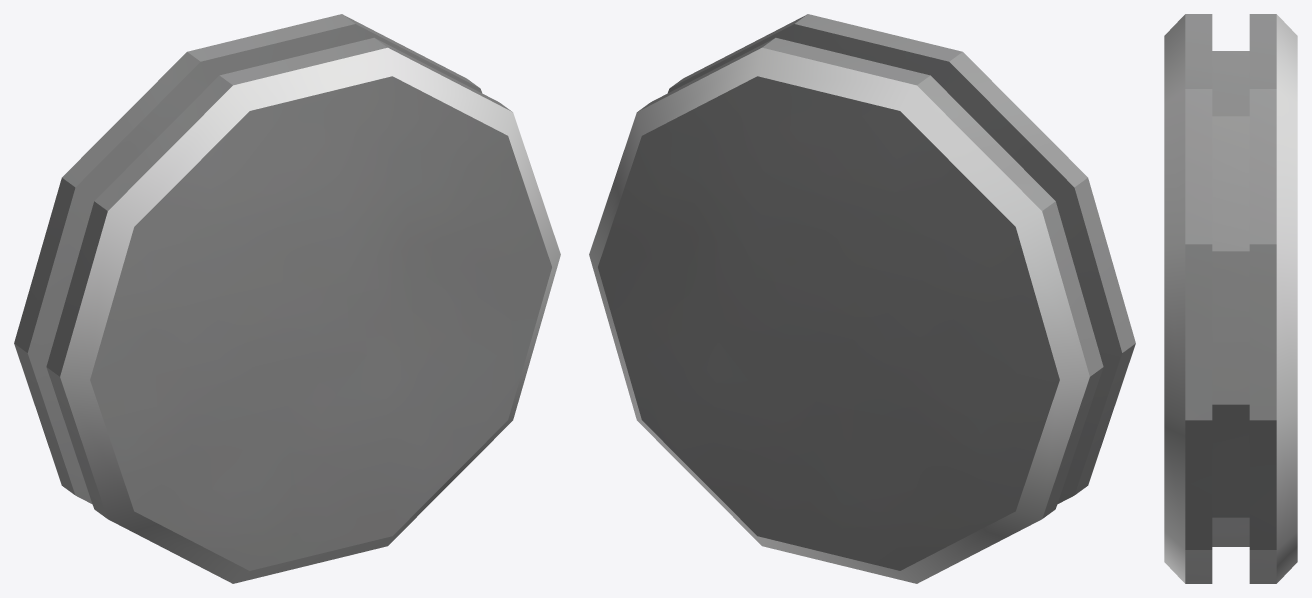
Rendered from big_wheel.fbx.
The picture shows the model from 3 angles, left to right: view 1: azimuth 30°, elevation 25°; view 2: azimuth 150°, elevation 25°; view 3: azimuth 270°, elevation 25°; orthographic projection.
Parts seen in each view (by area): view 1: big_wheel; view 2: big_wheel; view 3: big_wheel.
Part boxes in pixels (x1=…): big_wheel: x1=14, y1=14, x2=560, y2=583; big_wheel: x1=589, y1=14, x2=1135, y2=583; big_wheel: x1=1164, y1=14, x2=1297, y2=583.
Size of the model in its own units: 0.895 by 0.8512 by 0.2082.
